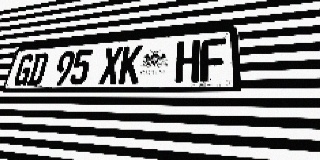5: (69, 49, 93, 85)
9: (52, 50, 76, 85)
D: (26, 53, 50, 86)
F: (200, 38, 226, 82)
G: (12, 54, 35, 86)
H: (175, 40, 200, 83)
K: (118, 45, 143, 84)
X: (98, 46, 123, 84)
